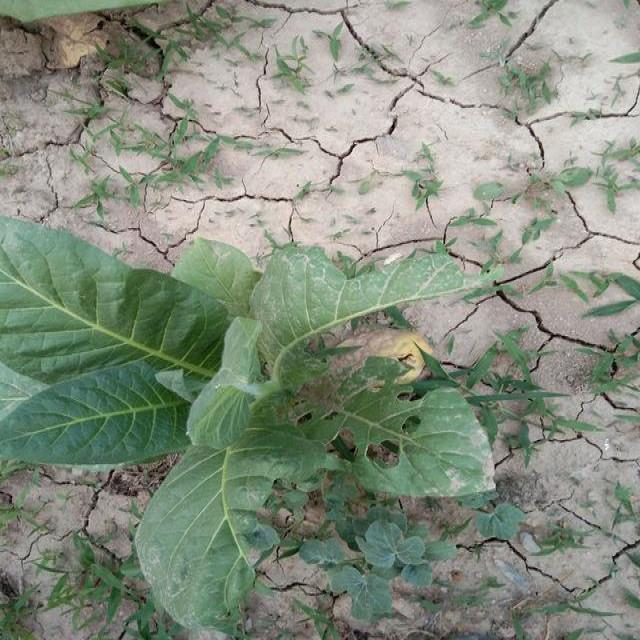crop: (1, 194, 498, 628)
